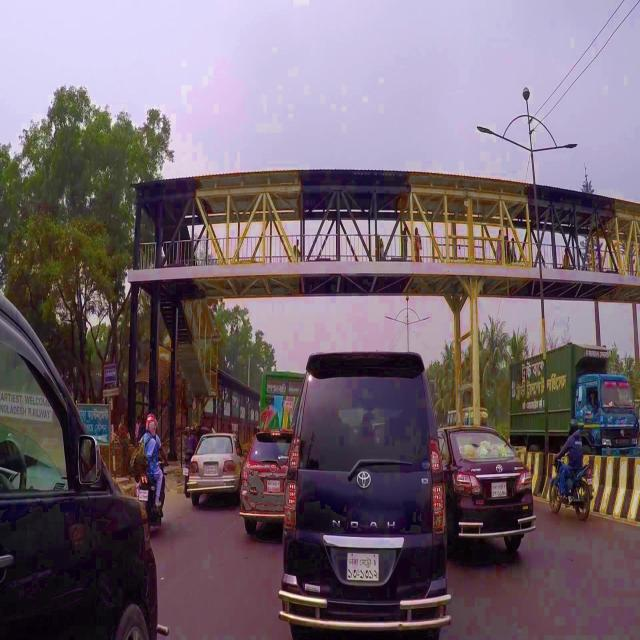black: (0, 289, 164, 640), (282, 358, 447, 640)
maroon: (439, 422, 537, 564)
red: (246, 433, 289, 533)
silver: (185, 431, 243, 509)
